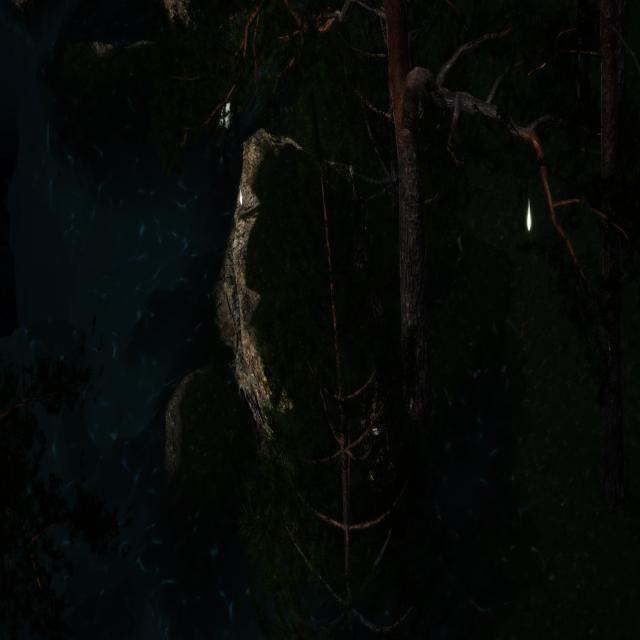Human: (183, 80, 245, 168)
